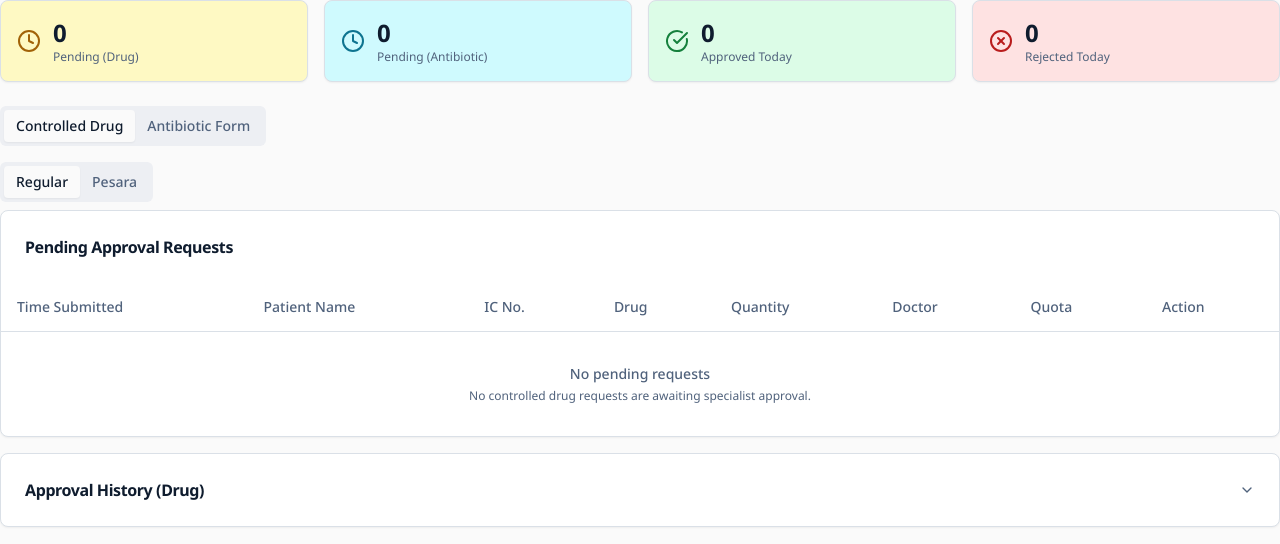
Scenario: SpecialistDashboard › renders 'NAG Check' column header in antibiotic forms table
Click the Antibiotik tab to reveal that table
Click the tab "Antibiotic Form" at (199, 126), box top-left (135, 110), bottom-right (262, 142)
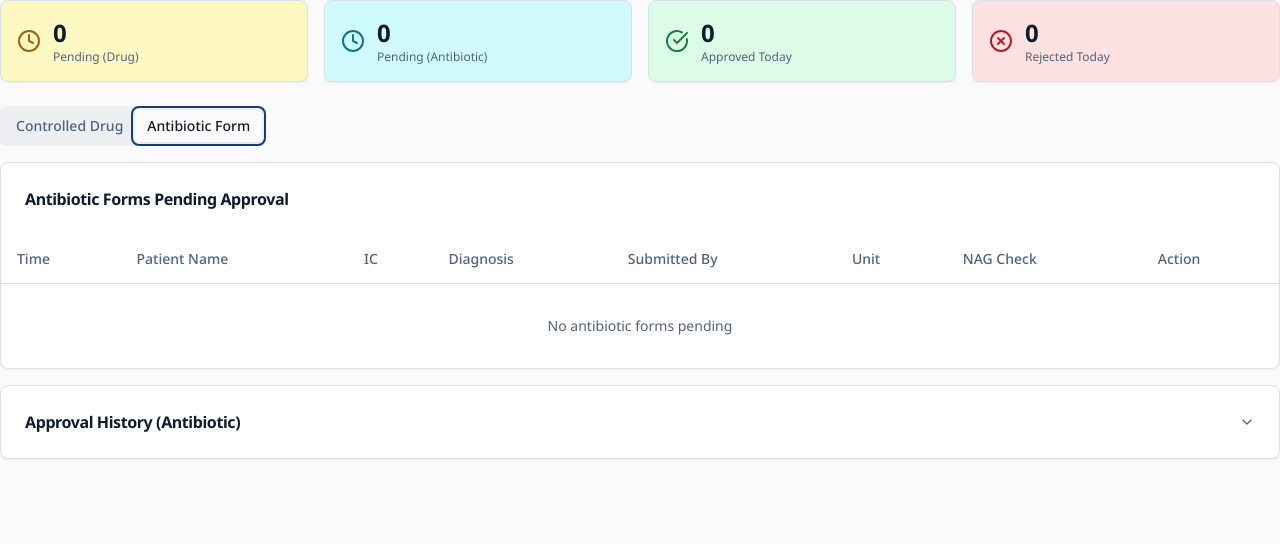
Check: the column heading "NAG Check" is shown, box top-left (947, 235), bottom-right (1142, 283)
